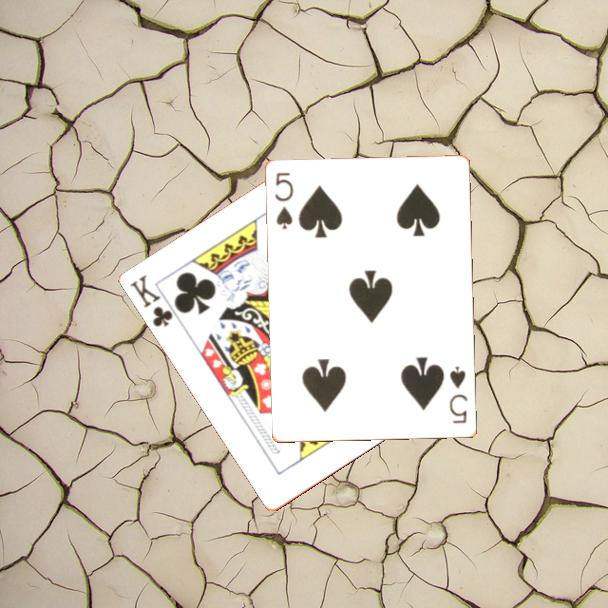c13: (127, 271, 176, 330)
s05: (446, 363, 471, 427), (272, 169, 297, 232)
